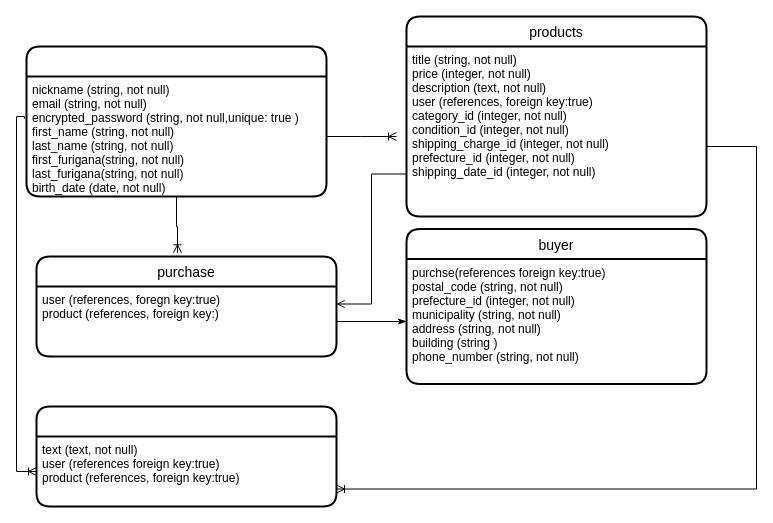
This 773x523 diagram has some shape labels left out. The shapes that lost their labels are listed below. From the top down, each one's box as (x1, y1, x2, y2) in pixels, then its label:
(25, 45, 327, 197): users
(35, 405, 337, 507): comments
